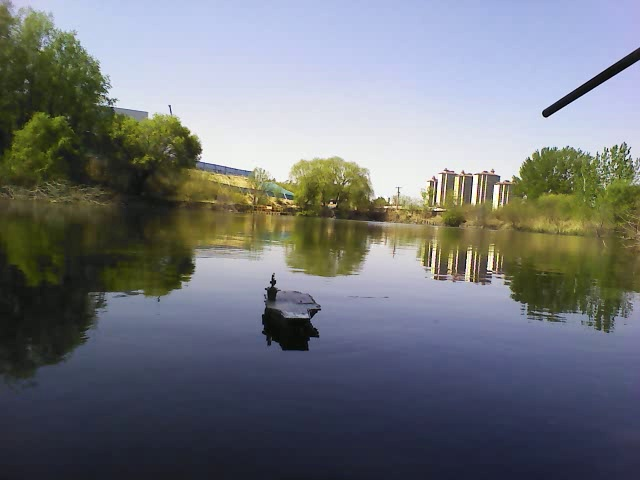aircraft_carrier: (262, 275, 326, 338)
